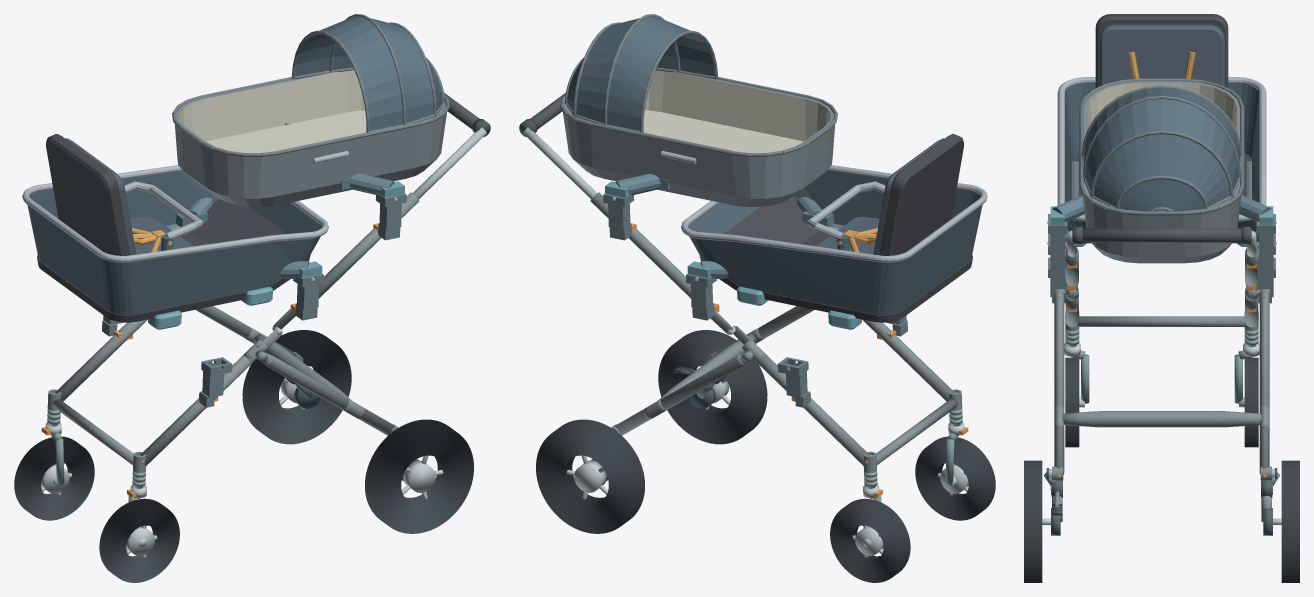
The model's file is D21_w550_state1_wheel_M.glb.
3 views of the same model, side by side, from view 1: azimuth 30°, elevation 25°; view 2: azimuth 150°, elevation 25°; view 3: azimuth 270°, elevation 25° (orthographic). The views are drawn at different scales.
Parts seen in each view (by area): view 1: D21_Upper, D21_Lower, RL_tire.002, RR_tire.002, FL_tire.002, FR_tire.002, V46_rear_leg_-1.003, main_lower_-1.003, main_lower_1.003, main_upper_-1.003, D21_Lower_Mount_M, Universal_Cabin_Receiver_L_-1 (+8 smaller); view 2: D21_Upper, D21_Lower, RR_tire.002, RL_tire.002, FR_tire.002, FL_tire.002, V46_rear_leg_1.003, main_lower_1.003, main_lower_-1.003, main_upper_1.003, D21_Lower_Mount_M, Universal_Cabin_Receiver_L_1 (+8 smaller); view 3: D21_Upper, D21_Lower, V46_rearbar.003, round_handle.002, RL_tire.002, RR_tire.002, front_fixed_round_tube.002, V46_rear_leg_1.003, V46_rear_leg_-1.003, D21_Upper_Mount_H, FL_tire.002, FR_tire.002 (+10 smaller).
Part boxes in pixels (<box>): D21_Upper: <box>172,14,449,206</box>; D21_Lower: <box>22,134,328,329</box>; RL_tire.002: <box>365,419,473,533</box>; RR_tire.002: <box>242,330,351,444</box>; FL_tire.002: <box>99,498,179,582</box>; FR_tire.002: <box>14,436,94,520</box>; V46_rear_leg_-1.003: <box>264,354,394,435</box>; main_lower_-1.003: <box>140,355,255,465</box>; main_lower_1.003: <box>55,319,147,401</box>; main_upper_-1.003: <box>296,192,419,303</box>; D21_Lower_Mount_M: <box>176,197,322,280</box>; Universal_Cabin_Receiver_L_-1: <box>199,357,232,407</box>; D21_Upper: <box>560,14,837,206</box>; D21_Lower: <box>681,134,987,329</box>; RR_tire.002: <box>536,419,644,533</box>; RL_tire.002: <box>658,330,767,444</box>; FR_tire.002: <box>830,498,910,582</box>; FL_tire.002: <box>915,436,995,520</box>; V46_rear_leg_1.003: <box>615,354,745,435</box>; main_lower_1.003: <box>754,355,869,465</box>; main_lower_-1.003: <box>862,319,954,401</box>; main_upper_1.003: <box>590,192,713,303</box>; D21_Lower_Mount_M: <box>687,197,833,280</box>; Universal_Cabin_Receiver_L_1: <box>777,357,810,407</box>; D21_Upper: <box>1079,78,1244,263</box>; D21_Lower: <box>1057,14,1266,246</box>; V46_rearbar.003: <box>1062,411,1261,427</box>; round_handle.002: <box>1072,228,1251,242</box>; RL_tire.002: <box>1024,460,1042,582</box>; RR_tire.002: <box>1281,460,1299,582</box>; front_fixed_round_tube.002: <box>1077,316,1246,326</box>; V46_rear_leg_1.003: <box>1259,296,1269,474</box>; V46_rear_leg_-1.003: <box>1054,296,1064,474</box>; D21_Upper_Mount_H: <box>1047,195,1276,225</box>; FL_tire.002: <box>1065,357,1079,447</box>; FR_tire.002: <box>1244,357,1258,447</box>.
Size of the model in its own units: 1.16 by 1.32 by 0.6771.
